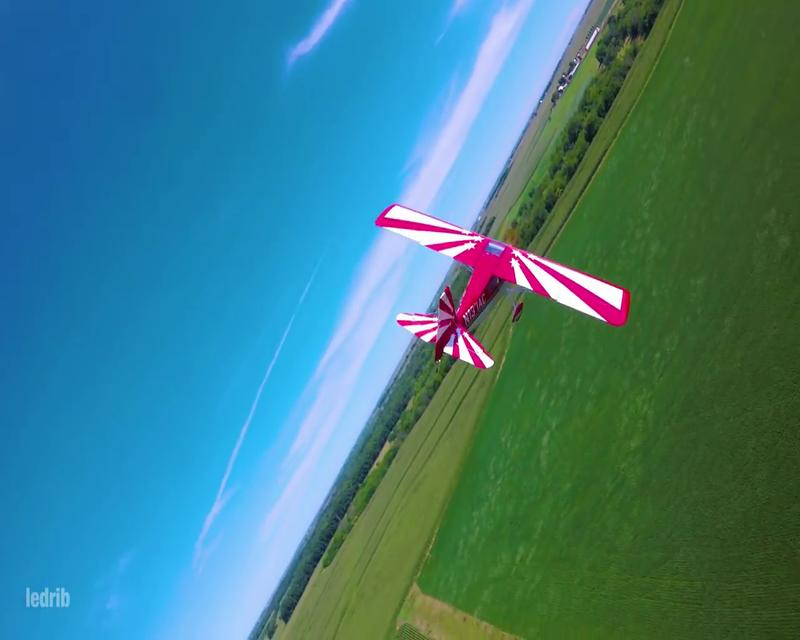UAV: (373, 201, 631, 370)
